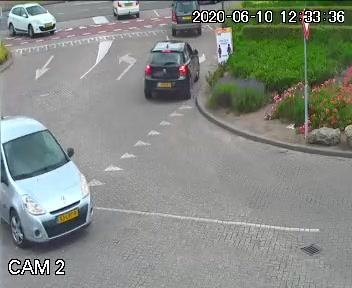car: (0, 109, 95, 254), (138, 36, 194, 111), (0, 1, 64, 38), (167, 0, 202, 39), (105, 0, 140, 19)
